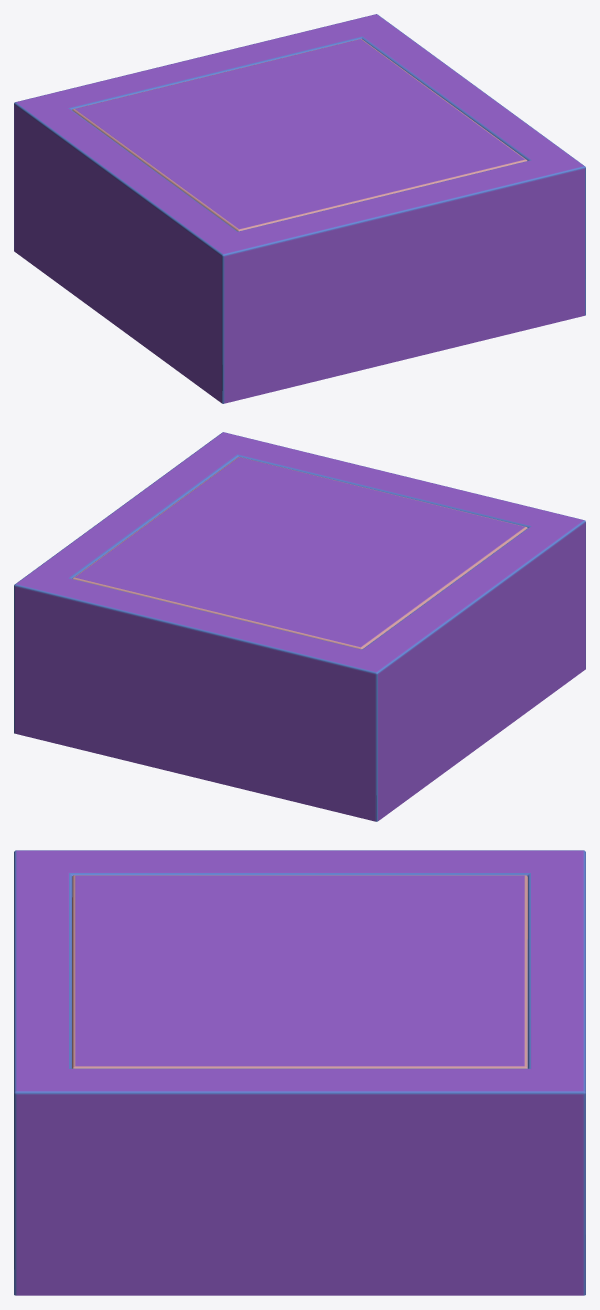
The model's file is [arch] Mini-platform.fbx.
The picture shows the model from 3 angles, top to bottom: view 1: azimuth 30°, elevation 25°; view 2: azimuth 150°, elevation 25°; view 3: azimuth 270°, elevation 25°; orthographic projection. The views are drawn at different scales.
Parts seen in each view (by area): view 1: Mini-platform_PHYS, Mini-platform_LOD0; view 2: Mini-platform_PHYS, Mini-platform_LOD0; view 3: Mini-platform_PHYS, Mini-platform_LOD0.
Boxes of the visible parts, left/top/right/bottom form: Mini-platform_PHYS: left=14, top=14, right=584, bottom=403; Mini-platform_LOD0: left=14, top=14, right=585, bottom=403; Mini-platform_PHYS: left=15, top=432, right=585, bottom=821; Mini-platform_LOD0: left=14, top=432, right=585, bottom=821; Mini-platform_PHYS: left=16, top=850, right=583, bottom=1295; Mini-platform_LOD0: left=14, top=850, right=585, bottom=1295.
Size of what is drawn, in the model's own units: 384 by 150 by 383.
